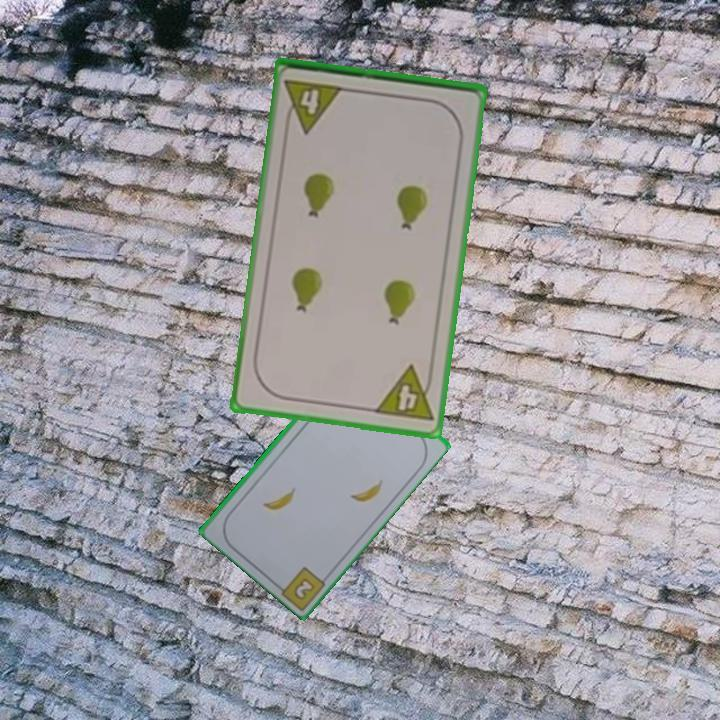2b: (292, 576, 315, 601)
4p: (371, 362, 437, 425), (281, 75, 346, 136)
